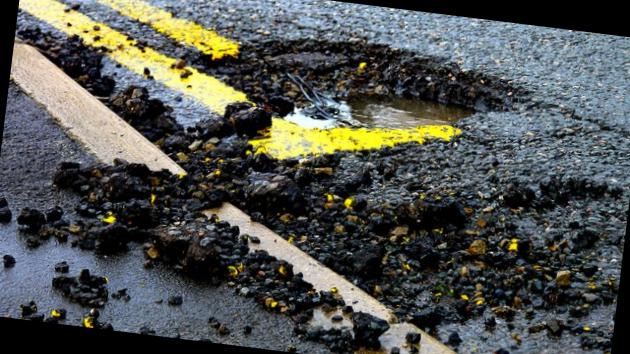pothole: (0, 0, 630, 354), (156, 0, 563, 173), (2, 38, 203, 181)
